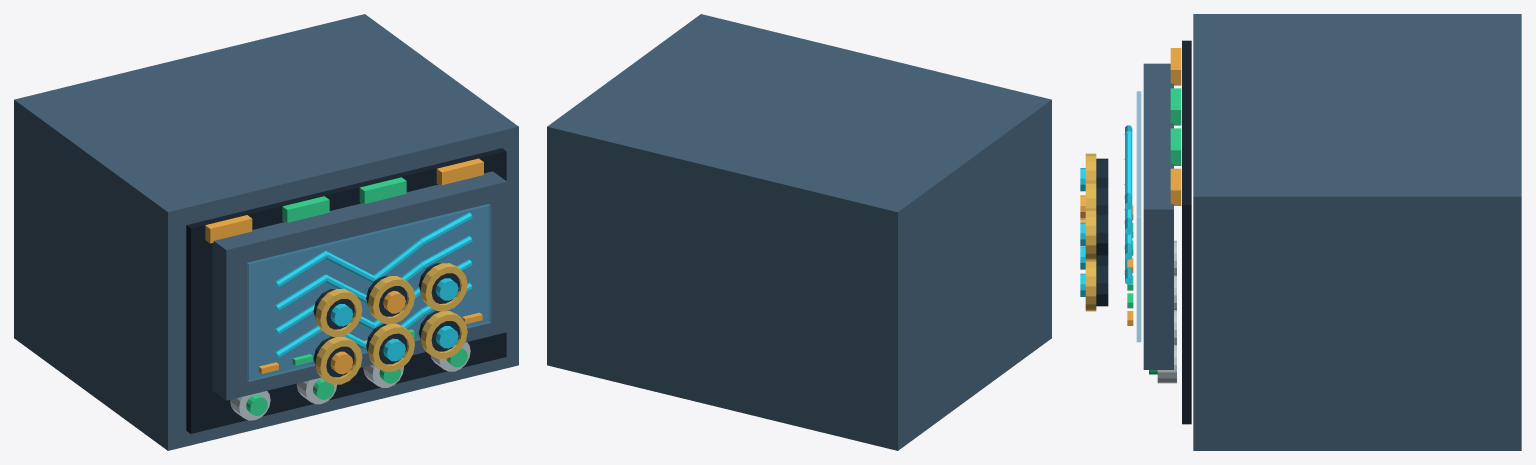
The model's file is 45_L81_OpticalLinkErrorTelemetryBridge.fbx.
The picture shows the model from 3 angles, left to right: view 1: azimuth 30°, elevation 25°; view 2: azimuth 150°, elevation 25°; view 3: azimuth 270°, elevation 25°; orthographic projection. The views are drawn at different scales.
Visible parts, largest first — view 1: OpticalLinkErrorTelemetryBridge; view 2: OpticalLinkErrorTelemetryBridge; view 3: OpticalLinkErrorTelemetryBridge.
Boxes of the visible parts, box(x1,y1,x2,y2) form: OpticalLinkErrorTelemetryBridge: box(14, 14, 518, 450); OpticalLinkErrorTelemetryBridge: box(547, 14, 1051, 450); OpticalLinkErrorTelemetryBridge: box(1080, 14, 1521, 450).
Size of the model in its own units: 100 by 65 by 102.
